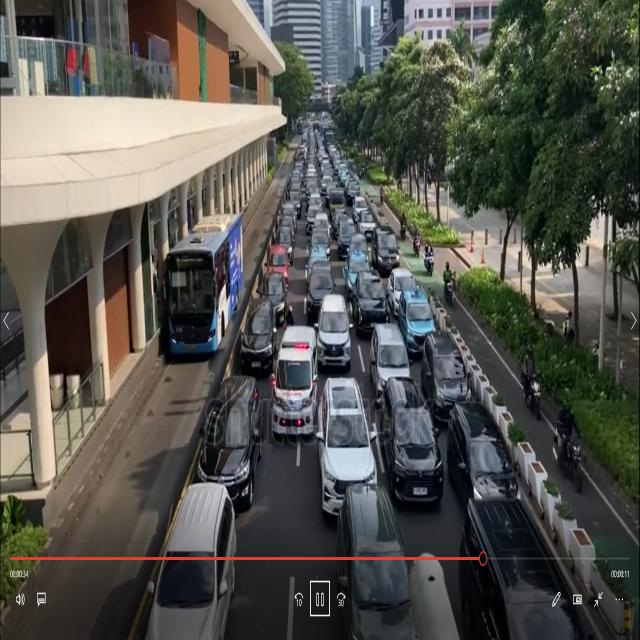Ambulance: (270, 314, 325, 452)
